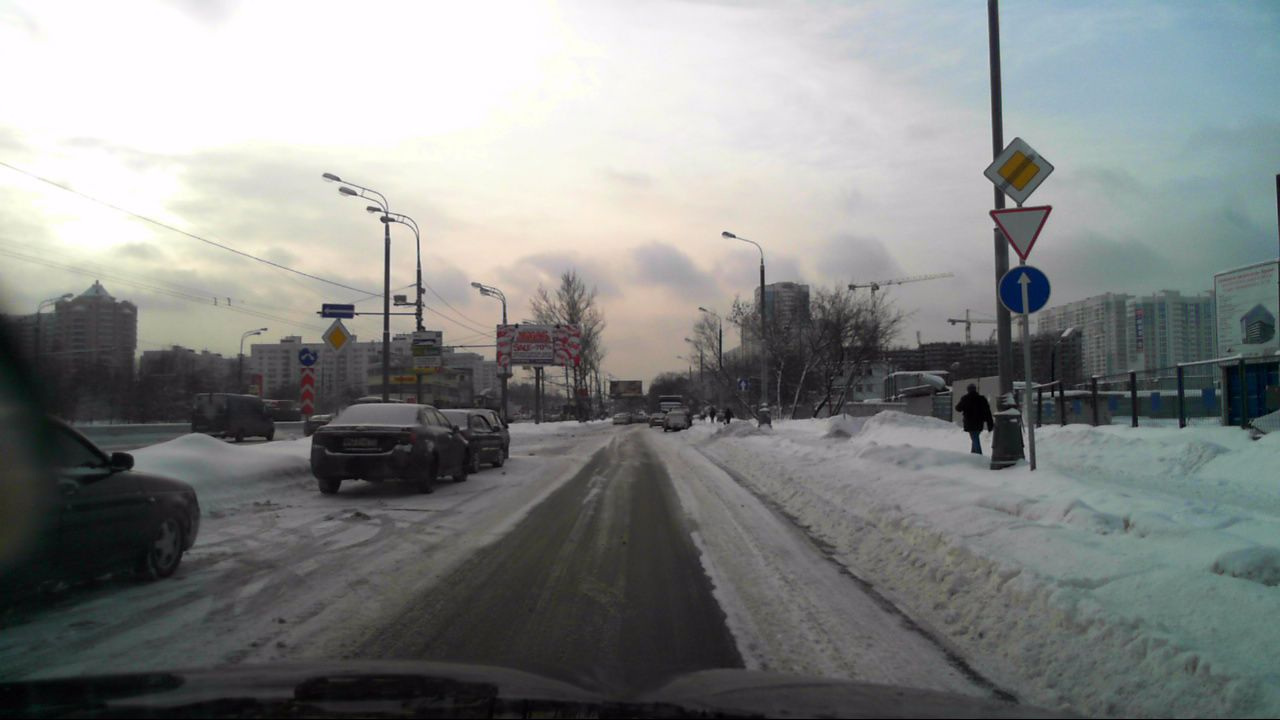main road: (983, 134, 1057, 206)
